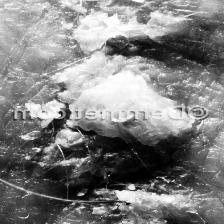Potentially Malignant Skin Tumors: (68, 72, 192, 144), (75, 12, 189, 54), (97, 192, 202, 224)
